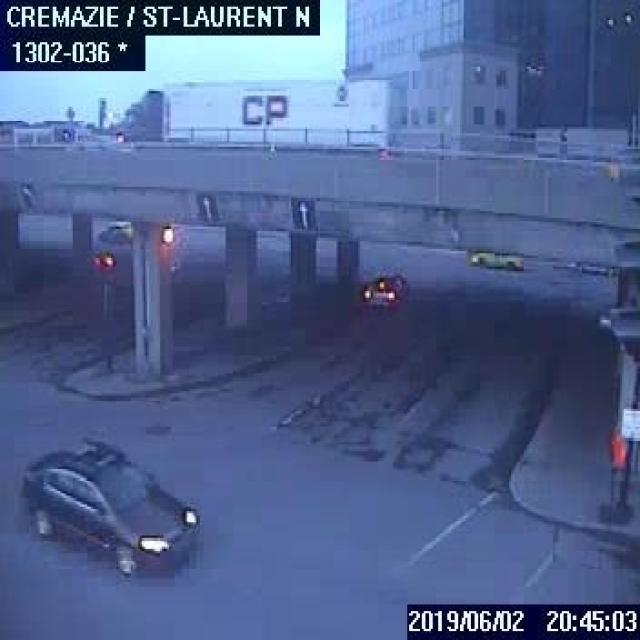construction: (599, 430, 628, 520)
vehicle: (20, 436, 202, 576), (115, 75, 389, 149), (360, 267, 405, 302), (464, 247, 524, 269), (96, 218, 131, 242)
